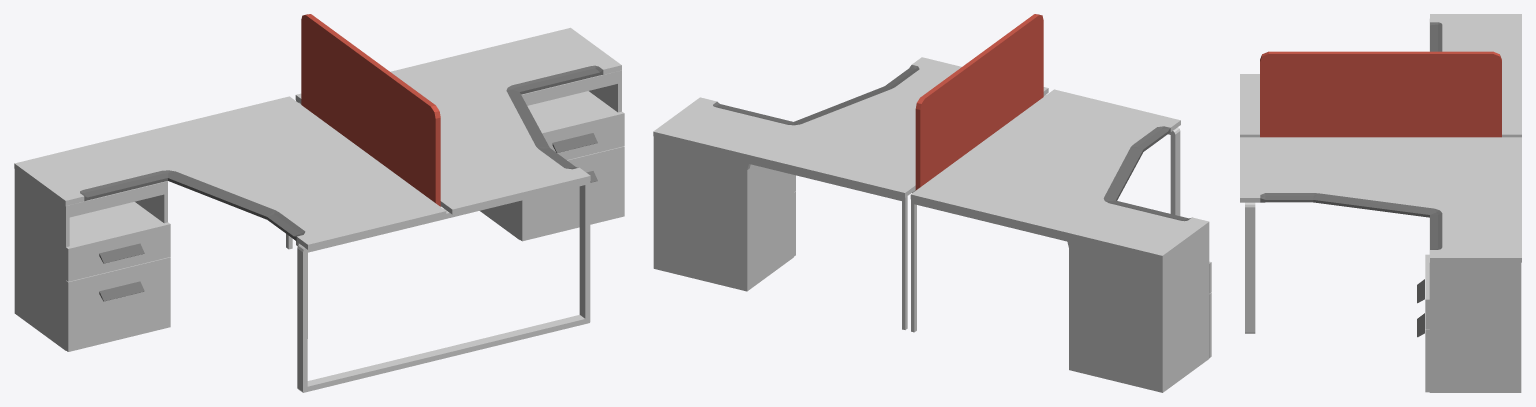
The model's file is 414_double_table_visual.dae.
The picture shows the model from 3 angles, left to right: view 1: azimuth 30°, elevation 25°; view 2: azimuth 150°, elevation 25°; view 3: azimuth 270°, elevation 25°; orthographic projection. The views are drawn at different scales.
Parts seen in each view (by area): view 1: Cube, Cube_001; view 2: Cube, Cube_001; view 3: Cube, Cube_001.
Boxes of the visible parts, x1,y1,x2,y2 form: Cube: (14,27,624,392); Cube_001: (301,14,440,206); Cube: (653,57,1211,392); Cube_001: (915,14,1043,190); Cube: (1240,14,1521,392); Cube_001: (1260,51,1501,137).
Size of the model in its own units: 2.83 by 1.38 by 1.18.
